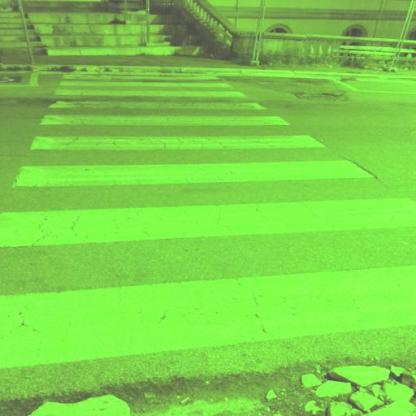crosswalk: (1, 197, 416, 370), (26, 112, 332, 154)
